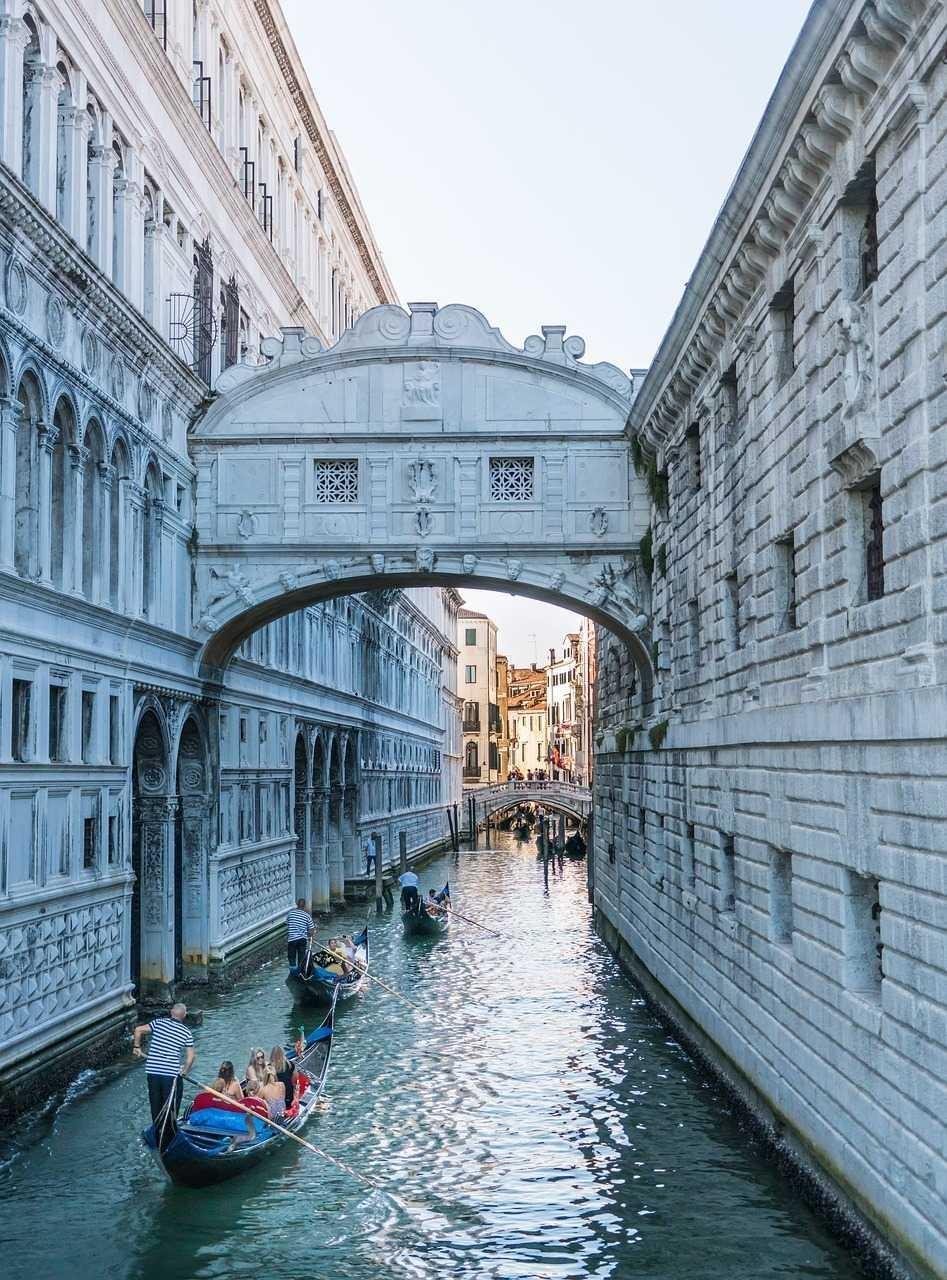kayak: (141, 1013, 337, 1189), (285, 928, 370, 1008), (402, 905, 449, 936)
